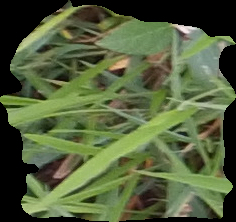grass: (1, 1, 235, 220)
